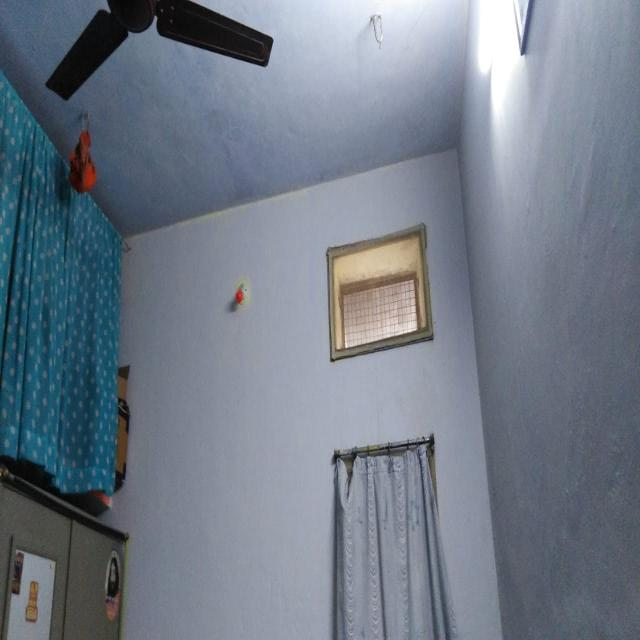Non_Damaged: (26, 0, 632, 640)
